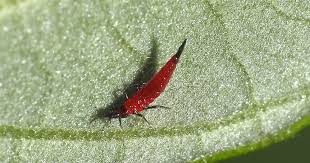Phlaeothripidae: (88, 37, 188, 128)
